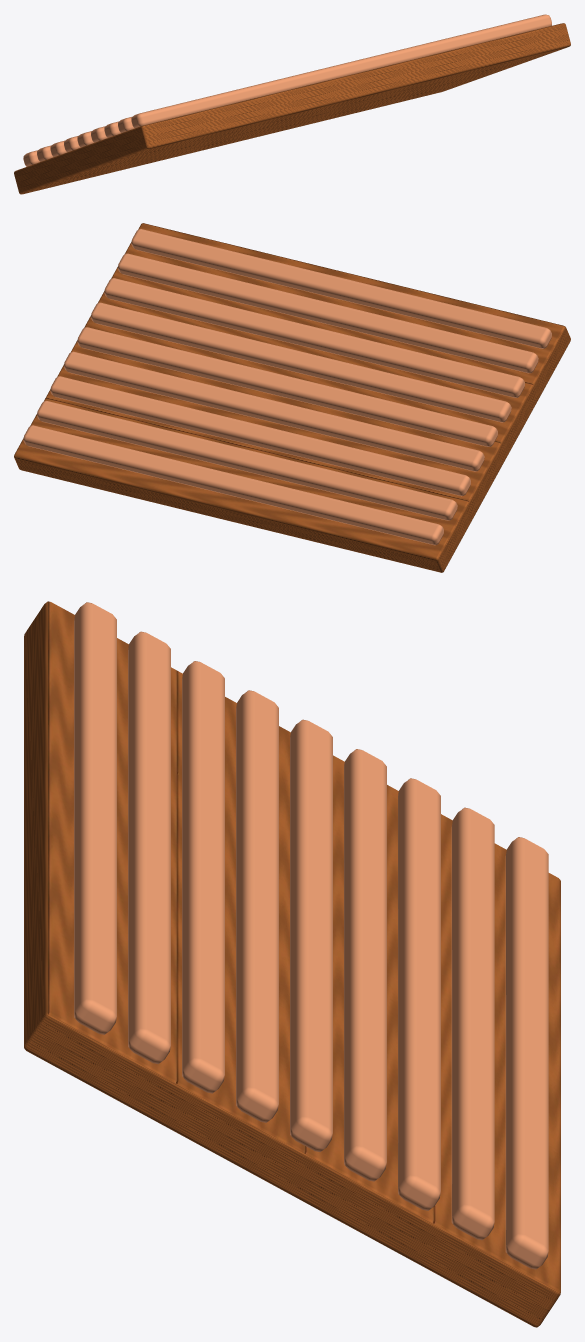
Rendered from hero-shooter-harbour-payload-roof-slope-tiled-92e25819__27696.glb.
3 renders of one model, top to bottom at view 1: azimuth 30°, elevation 25°; view 2: azimuth 150°, elevation 25°; view 3: azimuth 270°, elevation 25°, orthographic. The views are drawn at different scales.
Visible parts, largest first — view 1: roof-slope-tiled; view 2: roof-slope-tiled; view 3: roof-slope-tiled.
Part boxes in pixels (box(x1,y1,x2,y2)): roof-slope-tiled: box(14, 14, 570, 194); roof-slope-tiled: box(14, 223, 570, 572); roof-slope-tiled: box(24, 601, 560, 1327).
Bounding box in the file's own units: 4 × 1.44 × 2.19.
Materials: 2 (1 with a texture image).
